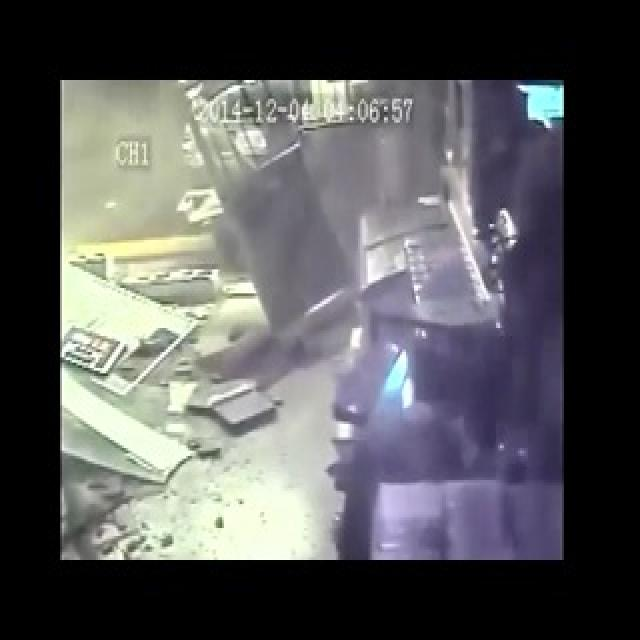burglary: (67, 86, 271, 416)
